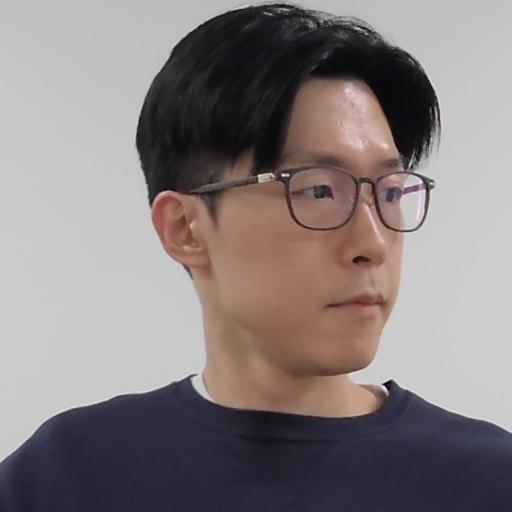no_glasses: (127, 6, 445, 382)
